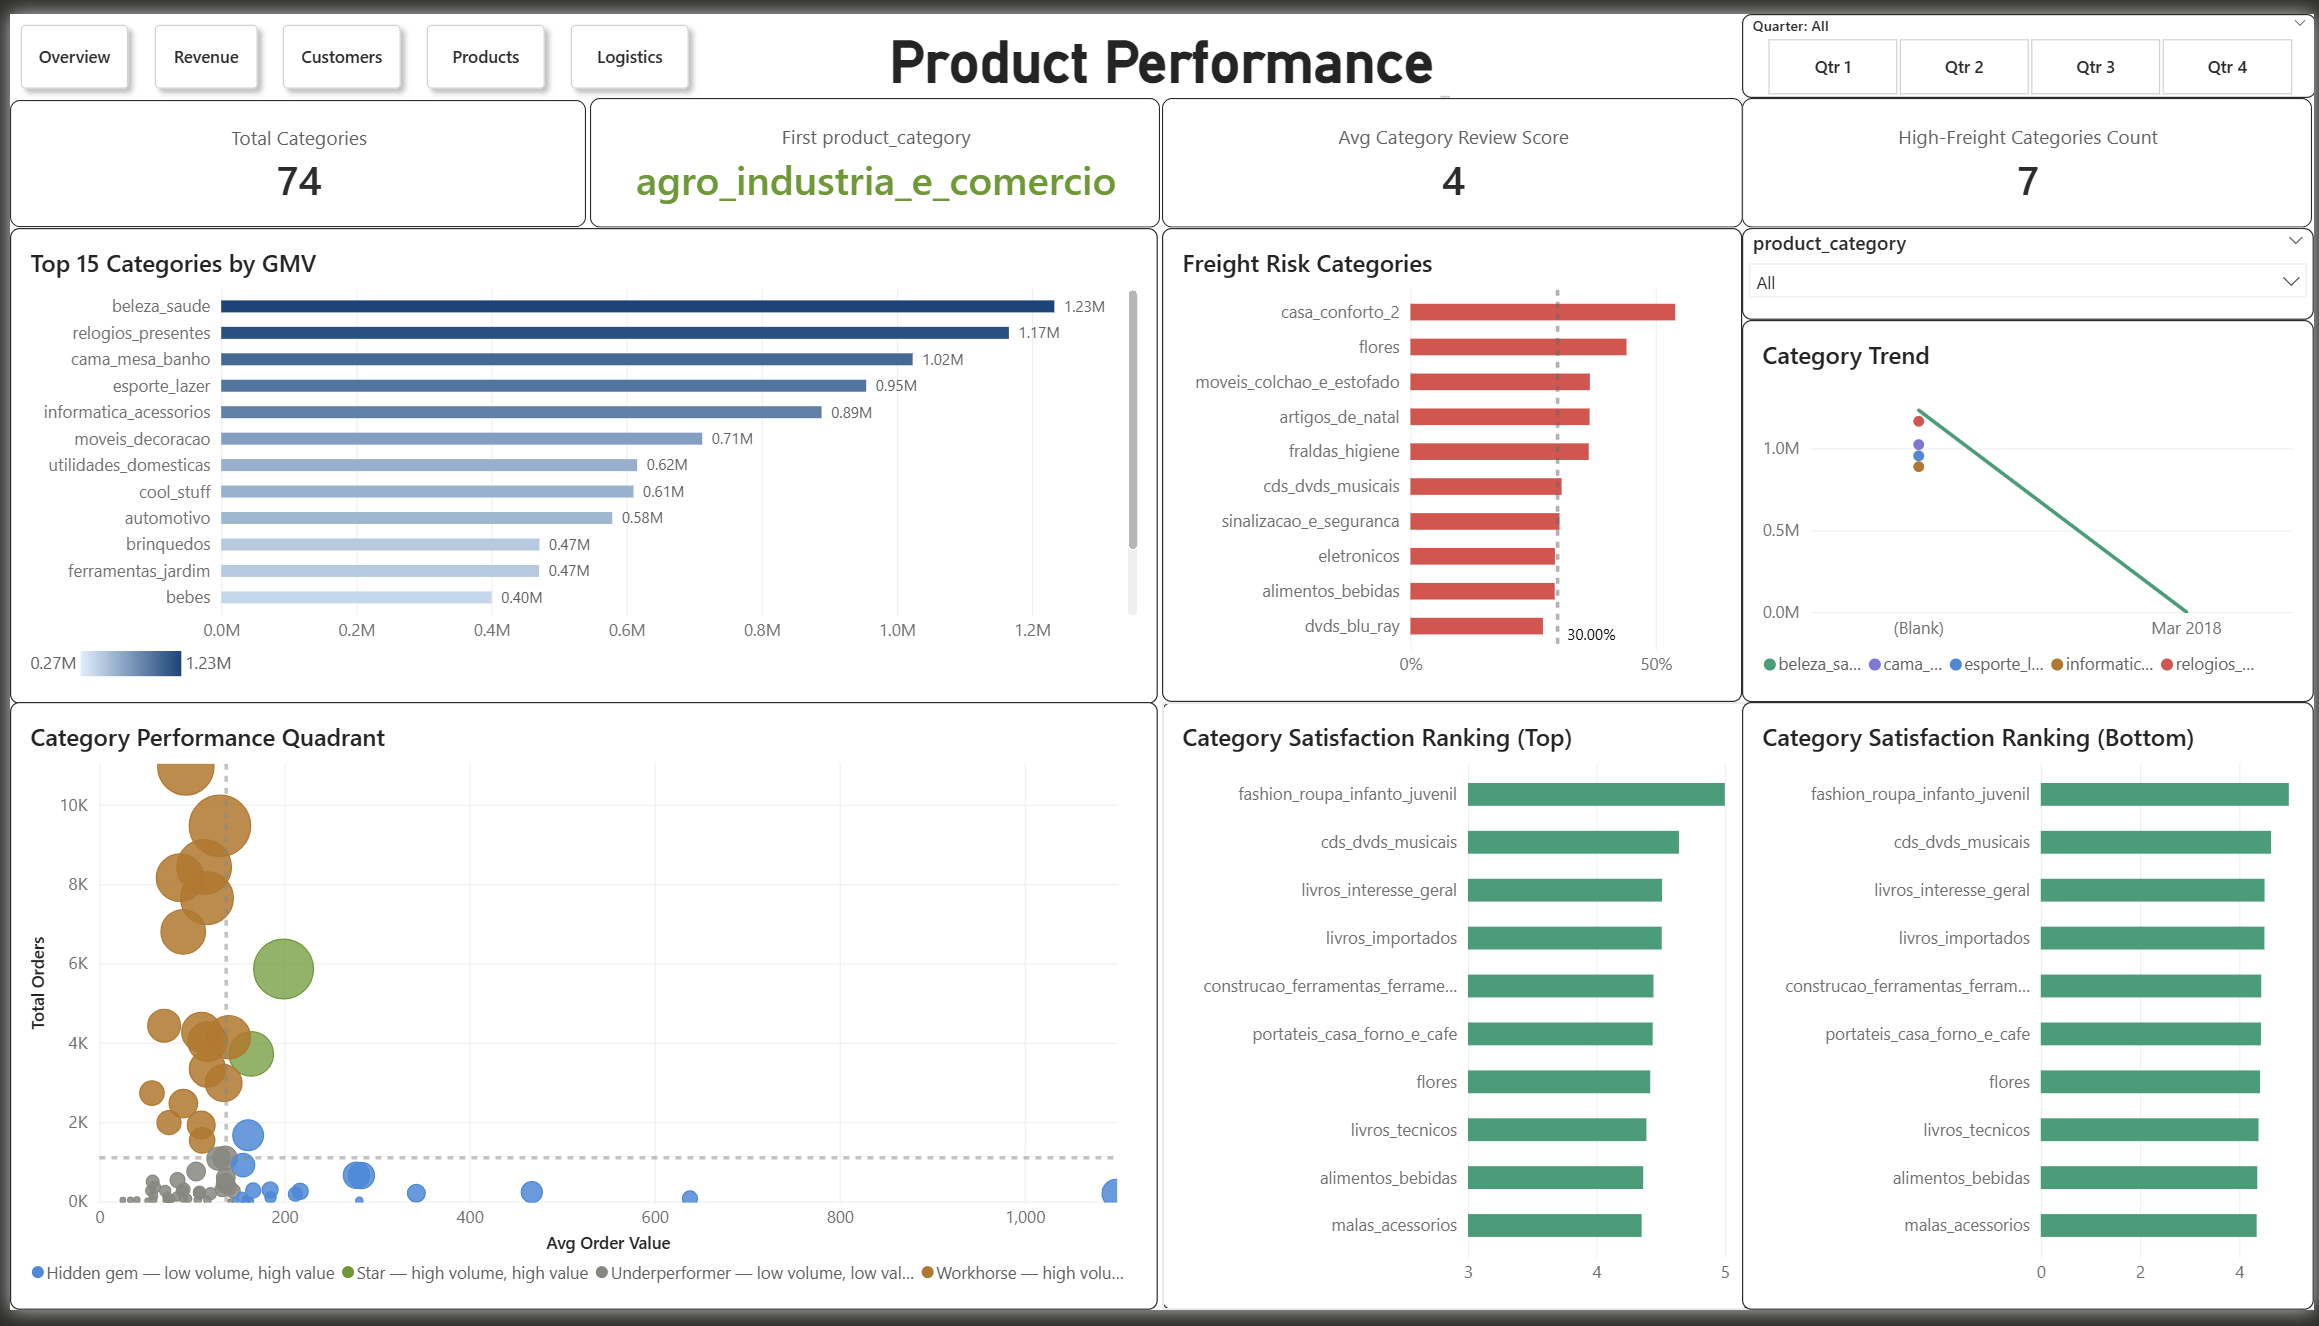

Layout of this report page (visuals, bound fields, positions):
{"tool":"powerbi","page":{"name":"Product Performance","canvas":[1920,1080],"ordinal":3},"visuals":[{"type":"textbox","title":"Product Performance","box":[720,2,480,68],"z":0},{"type":"actionButton","title":"Overview","box":[0,0.5,107.5,71.2],"z":1000,"group":"g1"},{"type":"cardVisual","fields":{"Data":["Min(category_quadrant.product_category)"]},"box":[484.1,69.4,475.9,108.3],"z":1000},{"type":"cardVisual","fields":{"Data":["delivered_orders.Total Categories"]},"box":[0,71.7,480,106.7],"z":2000},{"type":"actionButton","title":"Overview","box":[110.9,0.5,103.8,71.2],"z":3000,"group":"g1"},{"type":"cardVisual","fields":{"Data":["delivered_orders.High-Freight Categories Count"]},"box":[1444.1,69.4,475.9,108.3],"z":3000},{"type":"cardVisual","fields":{"Data":["delivered_orders.Avg Category Review Score"]},"box":[960,69.4,484.1,108.3],"z":4000},{"type":"actionButton","title":"Overview","box":[218.1,0.5,116.2,71.2],"z":5000,"group":"g1"},{"type":"clusteredBarChart","title":"Top 15 Categories by GMV","fields":{"Category":["delivered_orders.product_category"],"Y":["delivered_orders.Total GMV"]},"box":[0,178.3,956.7,396.7],"z":5000},{"type":"scatterChart","title":"Category Performance Quadrant","fields":{"Category":["category_quadrant.product_category"],"X":["delivered_orders.Avg Order Value"],"Y":["delivered_orders.Total Orders"],"Series":["category_quadrant.category_quadrant"],"Size":["delivered_orders.Total GMV"]},"box":[0,573.3,956.7,506.7],"z":6000},{"type":"actionButton","title":"Overview","box":[337.8,0.5,116.2,71.2],"z":7000,"group":"g1"},{"type":"clusteredBarChart","title":"Category Satisfaction Ranking (Top)","fields":{"Category":["delivered_orders.product_category"],"Y":["delivered_orders.Avg Category Review Score"]},"box":[960,573.3,490,506.7],"z":7000},{"type":"clusteredBarChart","title":"Category Satisfaction Ranking (Bottom)","fields":{"Category":["delivered_orders.product_category"],"Y":["delivered_orders.Avg Category Review Score"]},"box":[1443.3,573.3,476.7,506.7],"z":8000},{"type":"actionButton","title":"Overview","box":[457.5,0.5,116.2,71.2],"z":9000,"group":"g1"},{"type":"clusteredBarChart","title":"Freight Risk Categories","fields":{"Category":["category_quadrant.product_category"],"Y":["delivered_orders.Freight % of GMV"]},"box":[960,178.3,483.3,395],"z":9000},{"type":"lineChart","title":"Category Trend","fields":{"Category":["DateTable.MonthName"],"Y":["delivered_orders.Total GMV"],"Series":["category_quadrant.product_category"]},"box":[1443.3,255,476.7,318.3],"z":10000},{"type":"slicer","fields":{"Values":["category_quadrant.product_category"]},"box":[1443.3,178.3,476.7,76.7],"z":11000},{"type":"slicer","fields":{"Values":["delivered_orders.order_approved_at.Variation.Date Hierarchy.Quarter"]},"box":[1443.3,0,478.3,70],"z":12000},{"type":"group","id":"g1","title":"Group 1","box":[0,0.5,573.8,71.2],"z":13000}]}

Visuals, with their boxes in screenshot pixels (x1, y1, x2, y2), scaled from the page's 1920x1080 canvas onto the 2319x1326 screenshot:
"Product Performance" textbox: rect(870, 2, 1449, 86)
"Overview" actionButton: rect(0, 1, 130, 88)
cardVisual - Min(category_quadrant.product_category): rect(585, 85, 1160, 218)
cardVisual - delivered_orders.Total Categories: rect(0, 88, 580, 219)
"Overview" actionButton: rect(134, 1, 259, 88)
cardVisual - delivered_orders.High-Freight Categories Count: rect(1744, 85, 2318, 218)
cardVisual - delivered_orders.Avg Category Review Score: rect(1160, 85, 1744, 218)
"Overview" actionButton: rect(263, 1, 404, 88)
"Top 15 Categories by GMV" clusteredBarChart: rect(0, 219, 1156, 706)
"Category Performance Quadrant" scatterChart: rect(0, 704, 1156, 1325)
"Overview" actionButton: rect(408, 1, 548, 88)
"Category Satisfaction Ranking (Top)" clusteredBarChart: rect(1160, 704, 1751, 1325)
"Category Satisfaction Ranking (Bottom)" clusteredBarChart: rect(1743, 704, 2318, 1325)
"Overview" actionButton: rect(553, 1, 693, 88)
"Freight Risk Categories" clusteredBarChart: rect(1160, 219, 1743, 704)
"Category Trend" lineChart: rect(1743, 313, 2318, 704)
slicer - category_quadrant.product_category: rect(1743, 219, 2318, 313)
slicer - delivered_orders.order_approved_at.Variation.Date Hierarchy.Quarter: rect(1743, 0, 2318, 86)
"Group 1" group: rect(0, 1, 693, 88)
